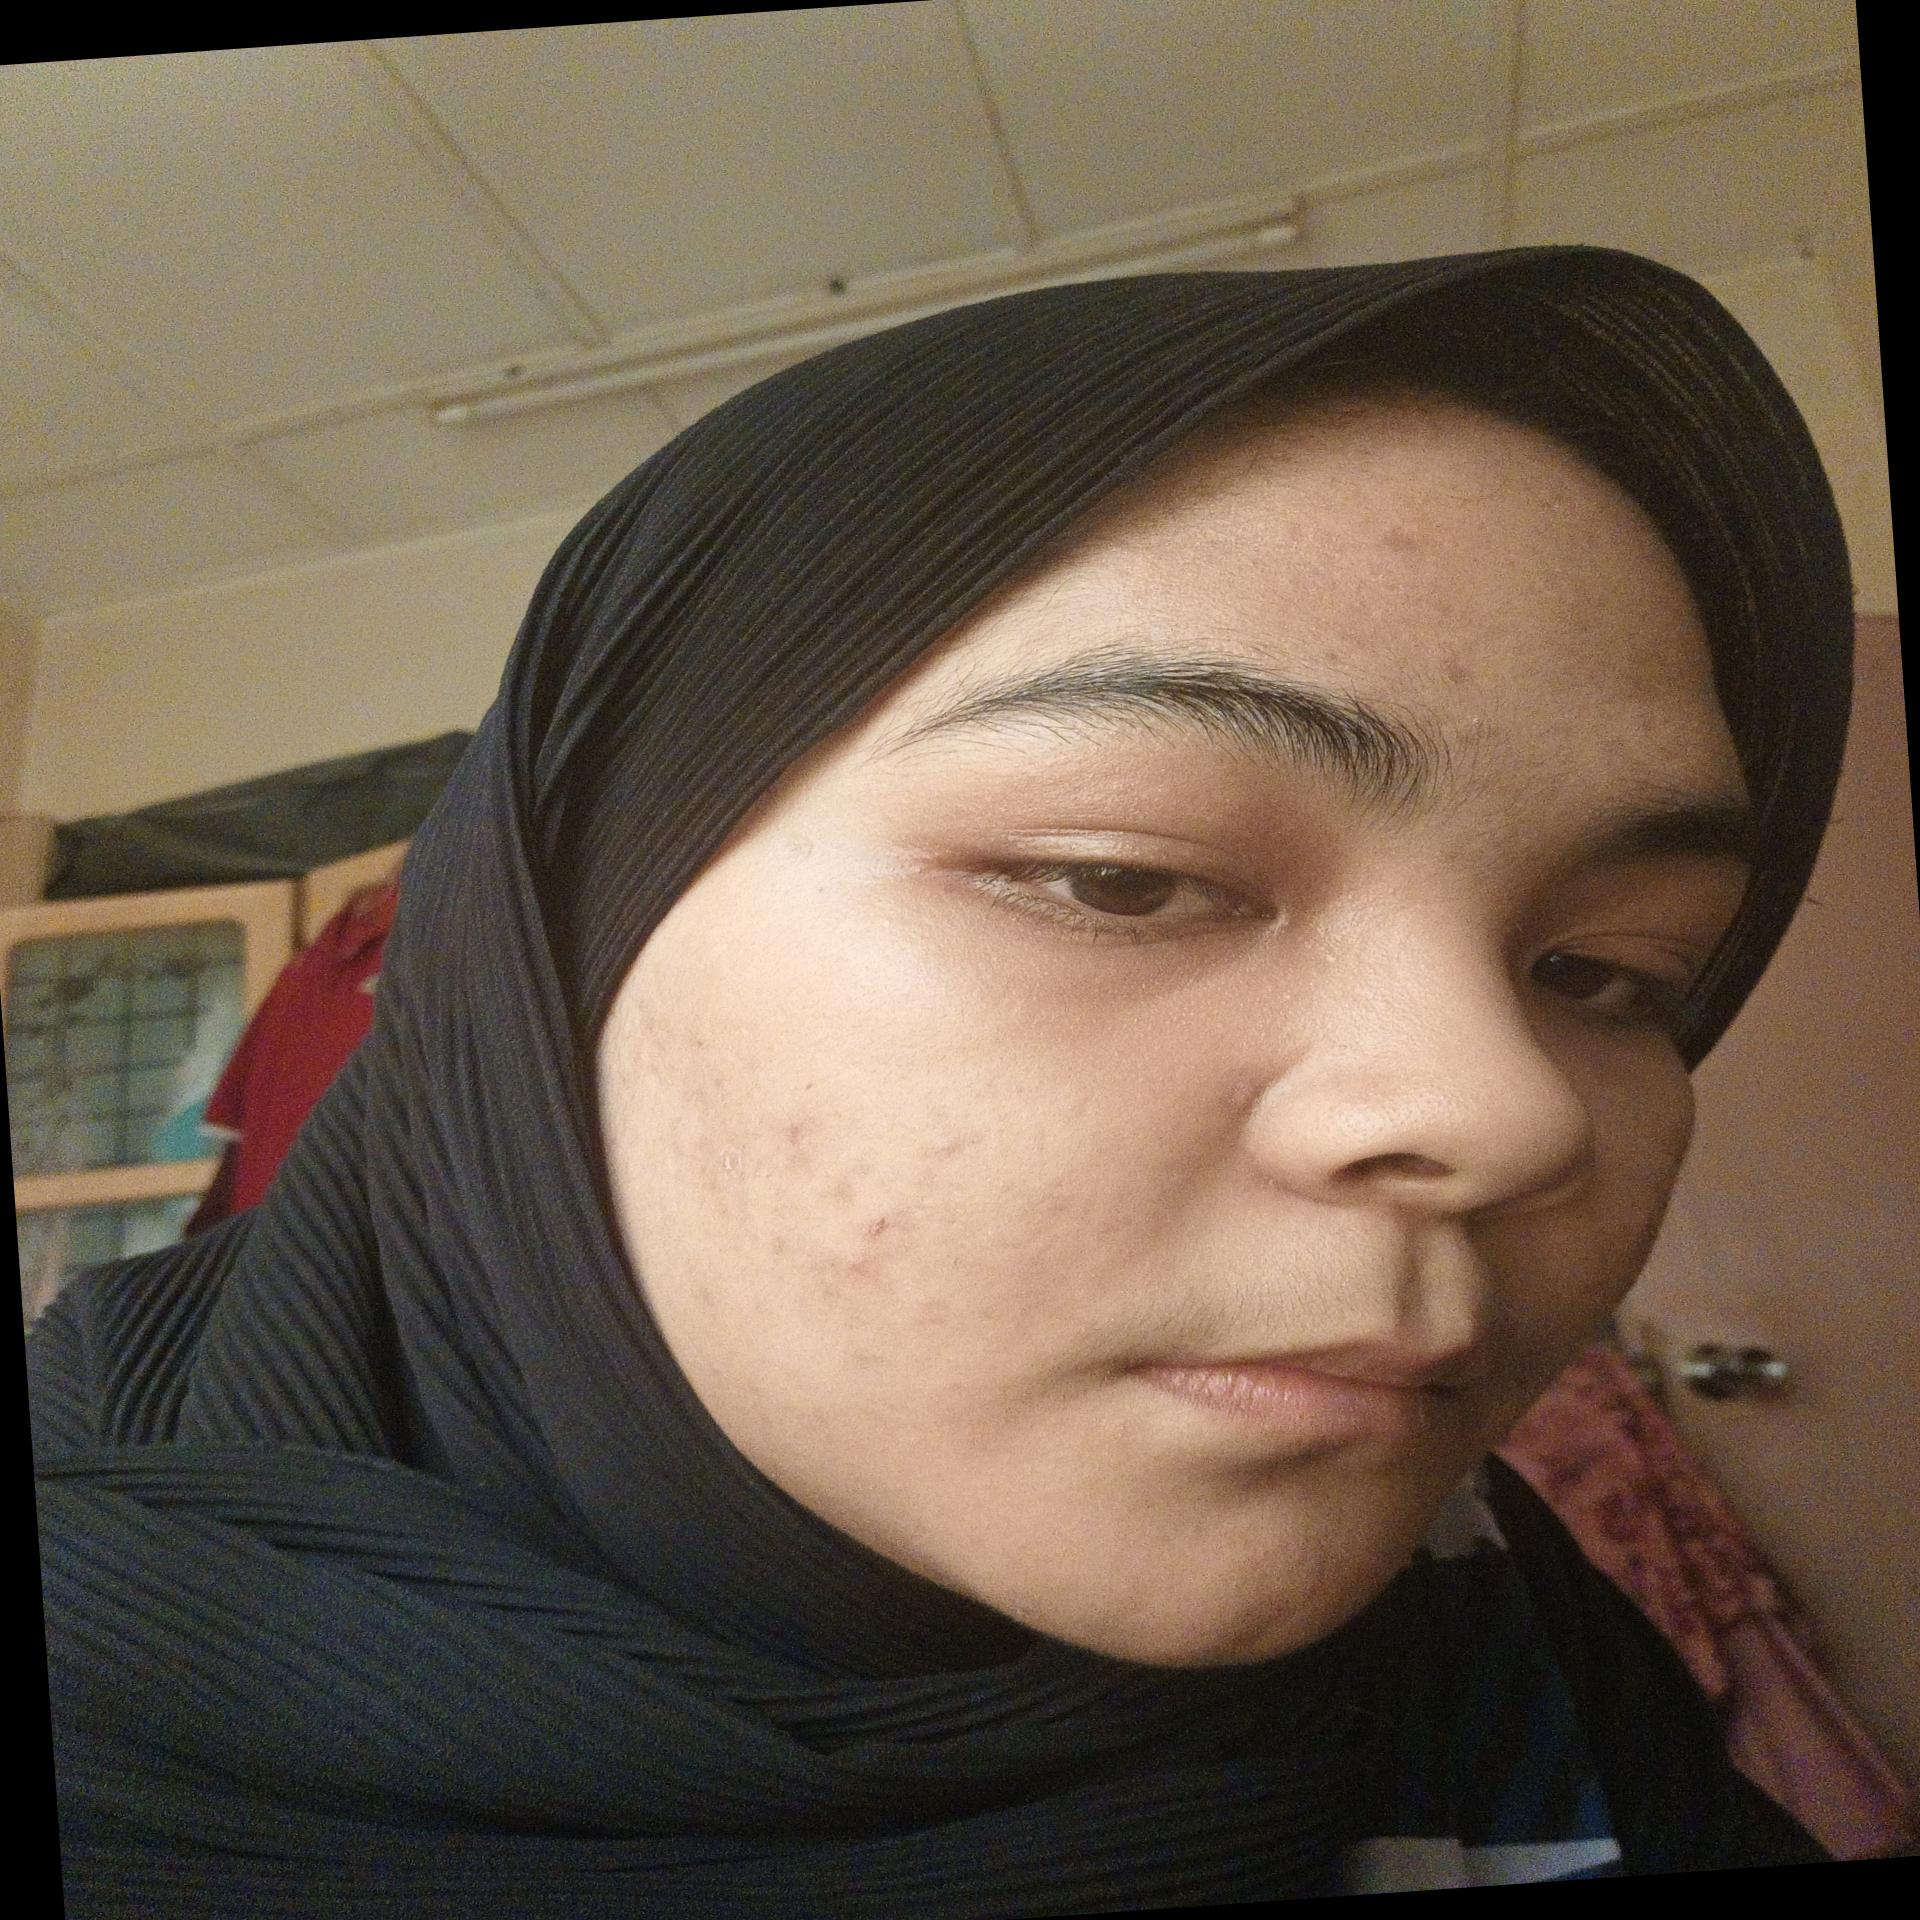Acne: (786, 1248, 897, 1317), (1215, 1069, 1292, 1124), (847, 1197, 907, 1266), (923, 1120, 997, 1166), (823, 1152, 877, 1206), (774, 1106, 830, 1159), (921, 1282, 965, 1338)
Blackhead: (675, 1064, 779, 1217)
